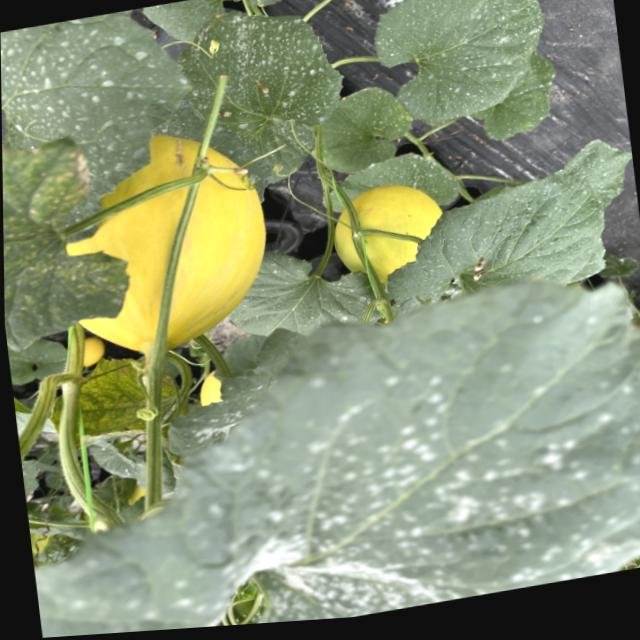downy mildew: (1, 84, 138, 358), (52, 345, 187, 454)
powdery mildew: (6, 251, 640, 640), (0, 0, 210, 262), (369, 132, 640, 320), (173, 0, 348, 189), (360, 0, 555, 135), (221, 240, 384, 357), (319, 143, 462, 228)
